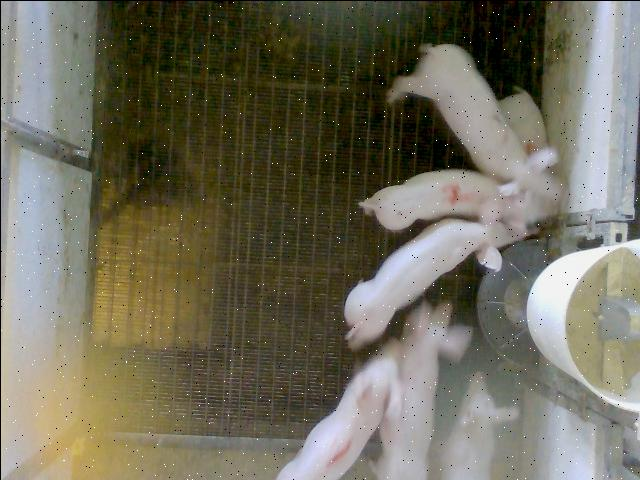pig-1: (276, 340, 399, 478)
pig-2: (386, 44, 561, 202)
pig-4: (359, 170, 552, 229)
